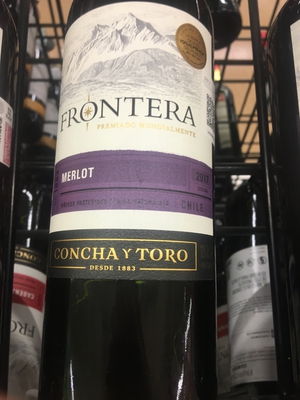frontera merlot: (45, 8, 240, 392)
